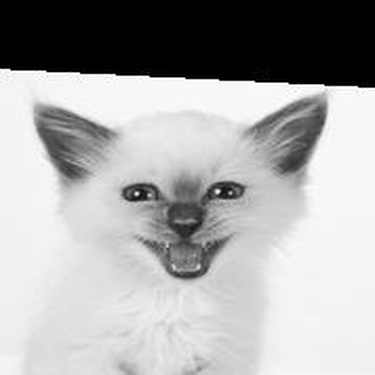cat: (27, 92, 336, 368)
